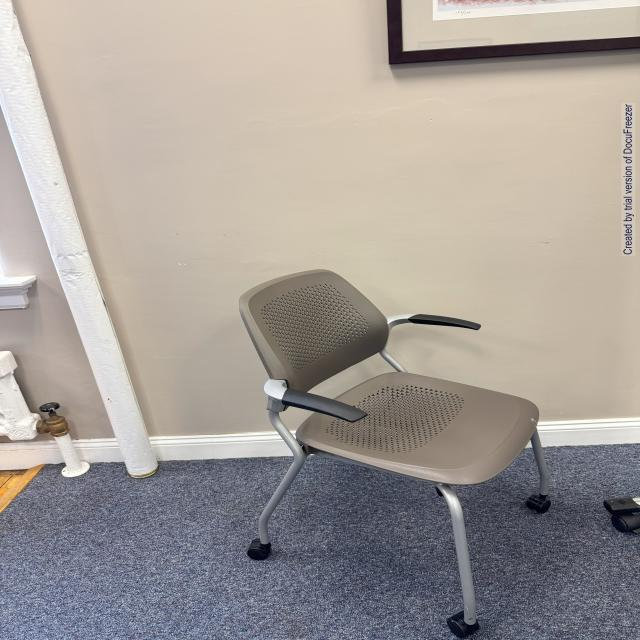chair: (217, 275, 582, 628)
